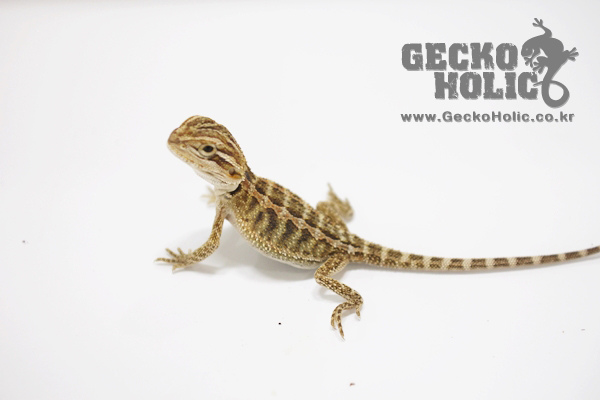bearded: (157, 114, 600, 339)
